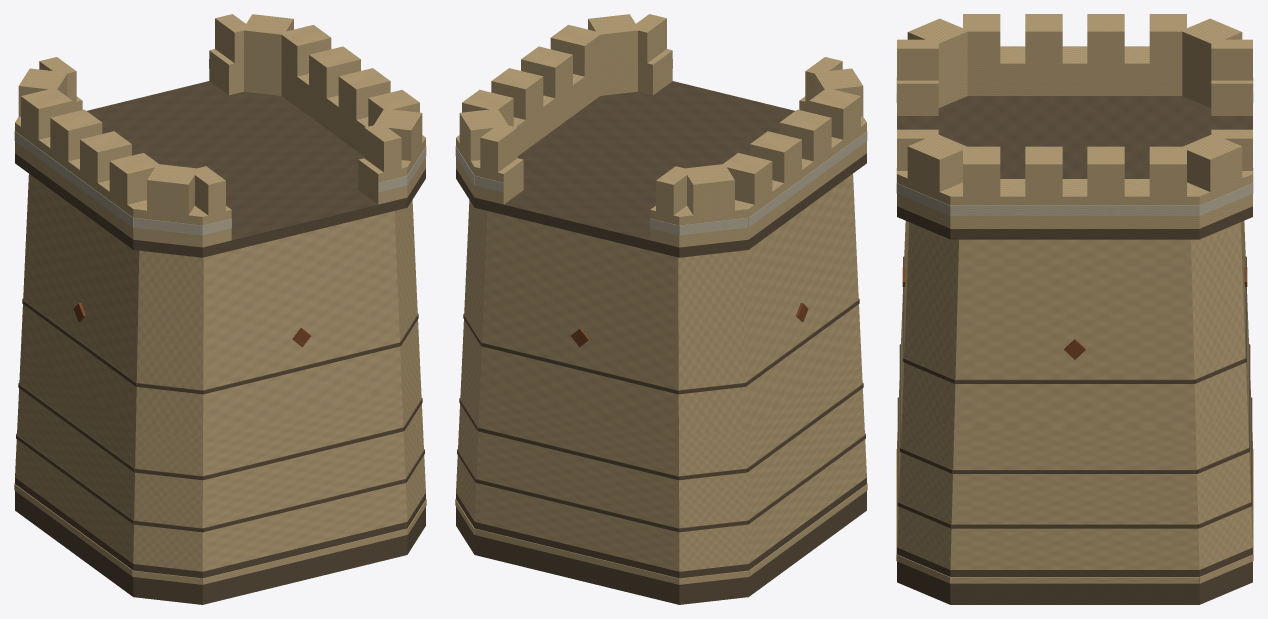
Rendered from Berber_Bastion_Age4_thru.fbx.
3 views of the same model, side by side, from view 1: azimuth 30°, elevation 25°; view 2: azimuth 150°, elevation 25°; view 3: azimuth 270°, elevation 25° (orthographic). The views are drawn at different scales.
Parts seen in each view (by area): view 1: thru_battered_upper, thru_battered_lower, thru_continuous_walk_floor, thru_stone_foot, thru_guard_6_0, thru_guard_2_0, thru_guard_7_0, thru_foundation_bond_0, thru_merlon_7_0_0, thru_guard_0_1, thru_owner_band_6_0, thru_guard_4_0 (+34 smaller); view 2: thru_battered_upper, thru_battered_lower, thru_continuous_walk_floor, thru_stone_foot, thru_guard_6_0, thru_guard_2_0, thru_guard_5_0, thru_foundation_bond_4, thru_guard_4_0, thru_merlon_5_0_0, thru_owner_band_6_0, thru_guard_0_1 (+34 smaller); view 3: thru_battered_upper, thru_battered_lower, thru_continuous_walk_floor, thru_stone_foot, thru_guard_6_0, thru_guard_2_0, thru_owner_band_2_0, thru_merlon_3_0_0, thru_merlon_1_0_0, thru_foundation_bond_2, thru_guard_0_0, thru_guard_4_1 (+34 smaller).
Part boxes in pixels (box(x1,y1,x2,y2)): thru_battered_upper: box(21, 174, 419, 436); thru_battered_lower: box(15, 345, 425, 571); thru_continuous_walk_floor: box(15, 81, 425, 257); thru_stone_foot: box(15, 477, 425, 604); thru_guard_6_0: box(15, 122, 146, 239); thru_guard_2_0: box(281, 65, 425, 155); thru_guard_7_0: box(133, 200, 204, 247); thru_foundation_bond_0: box(202, 528, 407, 584); thru_merlon_7_0_0: box(147, 176, 194, 215); thru_guard_0_1: box(358, 158, 407, 204); thru_owner_band_6_0: box(14, 131, 133, 227); thru_guard_4_0: box(209, 49, 243, 95); thru_battered_upper: box(462, 174, 860, 436); thru_battered_lower: box(456, 345, 866, 571); thru_continuous_walk_floor: box(456, 81, 866, 257); thru_stone_foot: box(456, 477, 866, 604); thru_guard_6_0: box(735, 121, 866, 239); thru_guard_2_0: box(456, 65, 600, 155); thru_guard_5_0: box(678, 200, 748, 247); thru_foundation_bond_4: box(474, 528, 679, 584); thru_guard_4_0: box(474, 158, 523, 204); thru_merlon_5_0_0: box(687, 177, 734, 215); thru_owner_band_6_0: box(748, 131, 867, 227); thru_guard_0_1: box(638, 49, 672, 95); thru_battered_upper: box(902, 221, 1247, 427); thru_battered_lower: box(897, 312, 1252, 569); thru_continuous_walk_floor: box(897, 96, 1252, 239); thru_stone_foot: box(897, 547, 1252, 604); thru_guard_6_0: box(967, 46, 1182, 95); thru_guard_2_0: box(950, 179, 1199, 228); thru_owner_band_2_0: box(950, 205, 1199, 215); thru_merlon_3_0_0: box(1187, 147, 1242, 191); thru_merlon_1_0_0: box(907, 148, 962, 191); thru_foundation_bond_2: box(950, 577, 1199, 583); thru_guard_0_0: box(897, 80, 938, 115); thru_guard_4_1: box(1211, 80, 1252, 115).
Size of the model in its own units: 603 by 820 by 603.
Materials: 4 (4 with a texture image).
